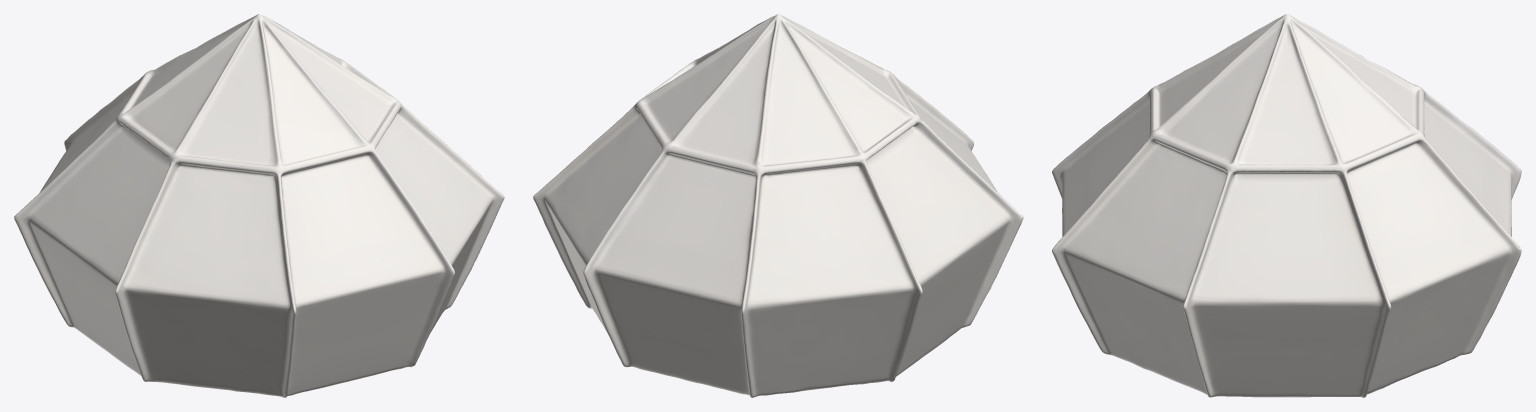
The model's file is base_basic_pbr.glb.
3 views of the same model, side by side, from view 1: azimuth 30°, elevation 25°; view 2: azimuth 150°, elevation 25°; view 3: azimuth 270°, elevation 25° (orthographic).
Parts seen in each view (by area): view 1: model; view 2: model; view 3: model.
Part boxes in pixels (x1=…): model: x1=14, y1=14, x2=504, y2=397; model: x1=533, y1=14, x2=1023, y2=397; model: x1=1052, y1=14, x2=1521, y2=397.
Size of the model in its own units: 1.75 by 1.31 by 1.8.
1 material, 1 textured.
